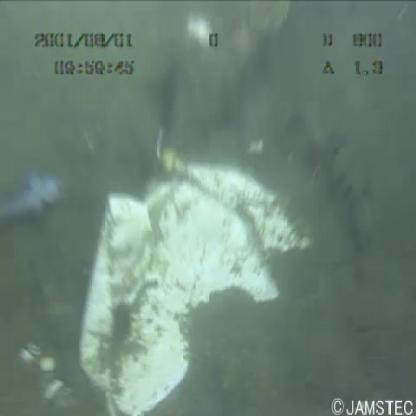Bio: (1, 160, 69, 220), (159, 145, 187, 176)
Rác: (68, 159, 314, 416)
